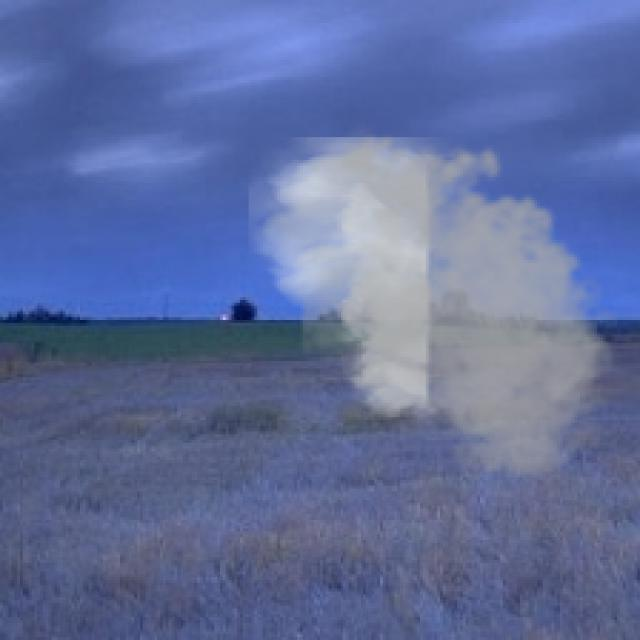smoke: (248, 123, 628, 486)
